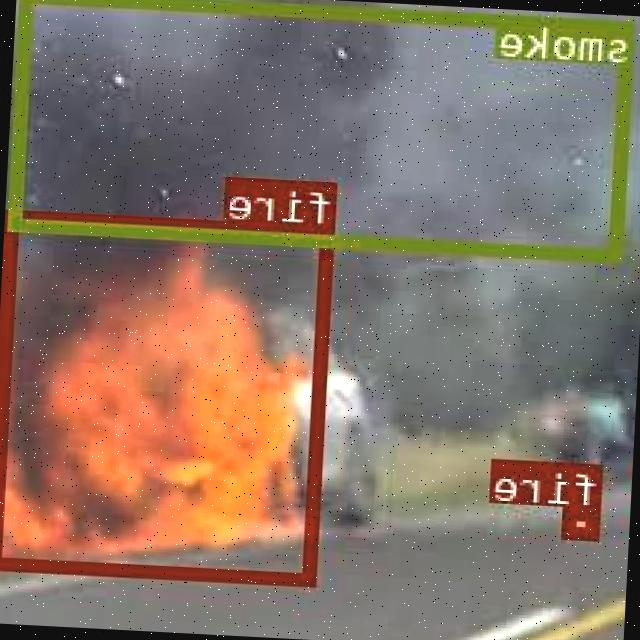fire: (0, 209, 338, 582), (564, 505, 602, 537)
smoke: (11, 0, 636, 261)
